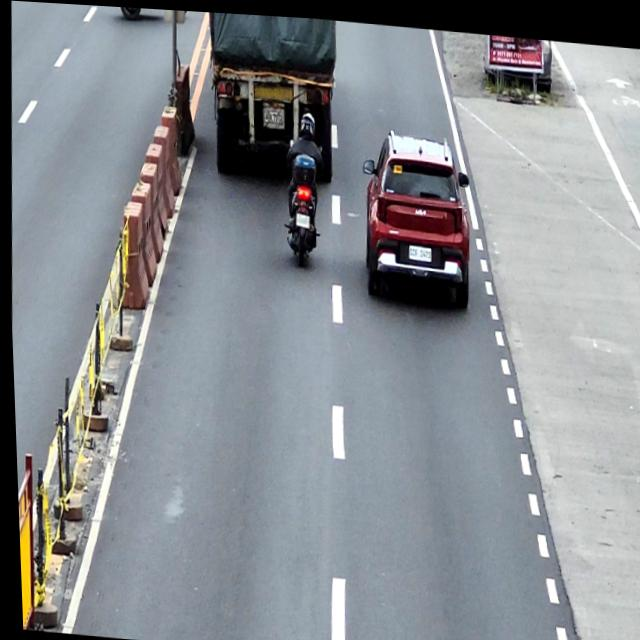Car: (356, 122, 474, 304)
License-Plate: (405, 239, 429, 257), (262, 106, 282, 121), (294, 209, 308, 225)
Motorcycle: (282, 135, 323, 265)
Truck: (202, 9, 341, 181)
